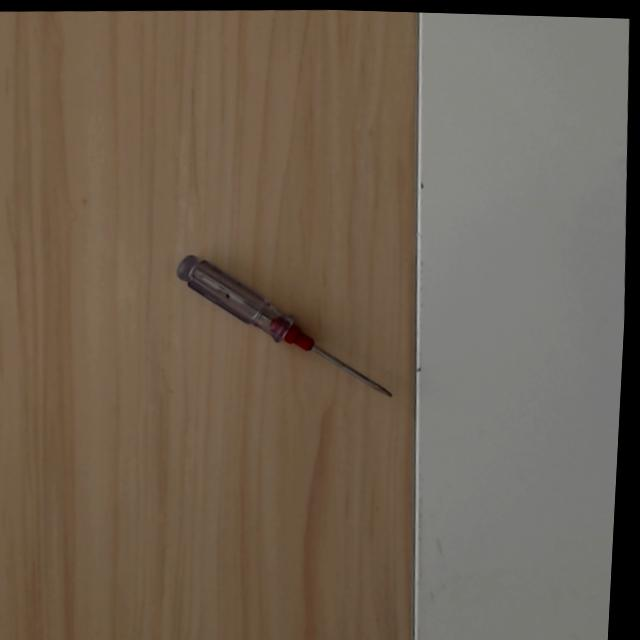Obeng-Kecil: (170, 248, 397, 412)
